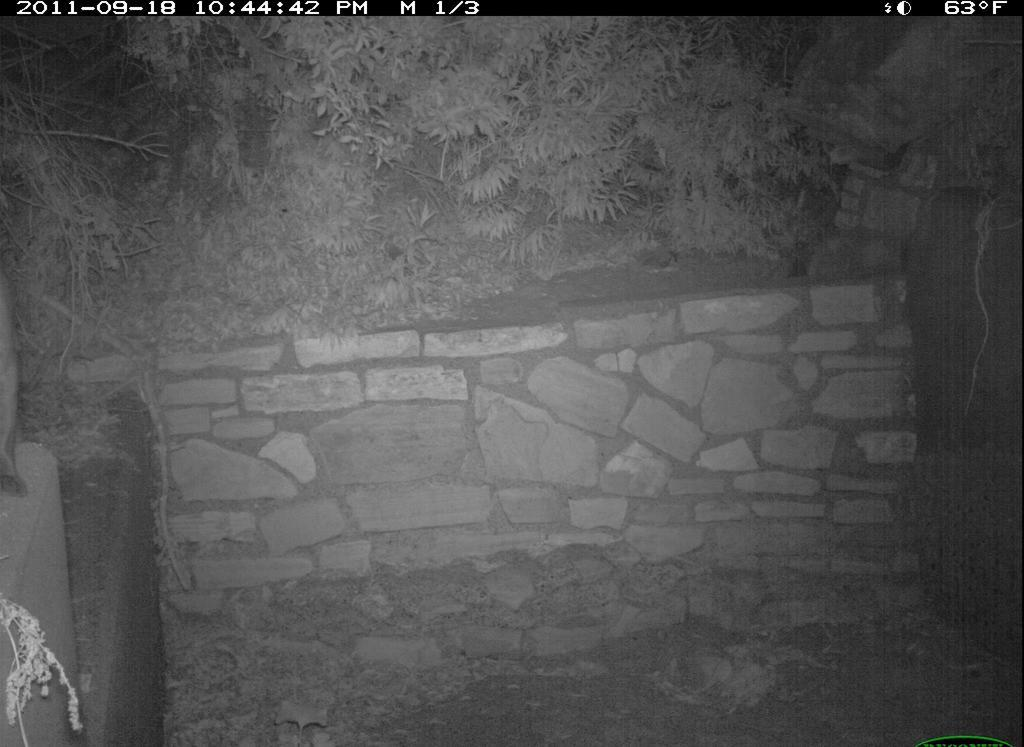cat: (1, 244, 48, 517)
